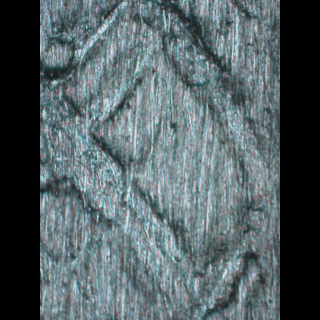d: (43, 0, 257, 316)
